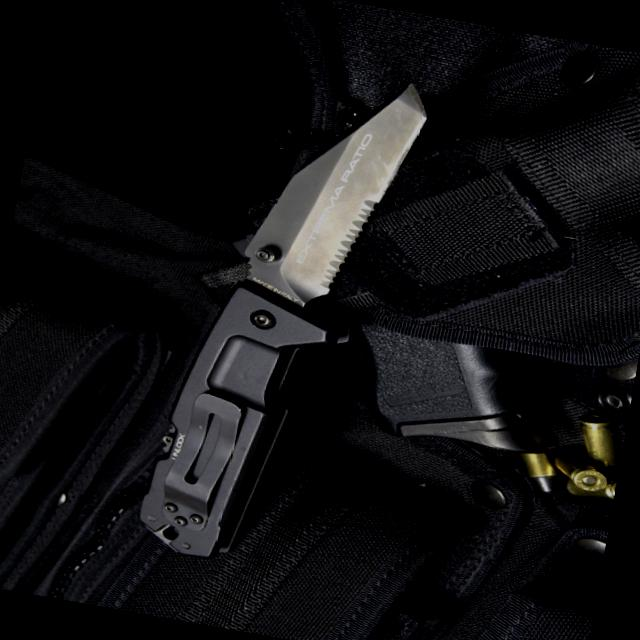knife: (220, 36, 444, 333)
